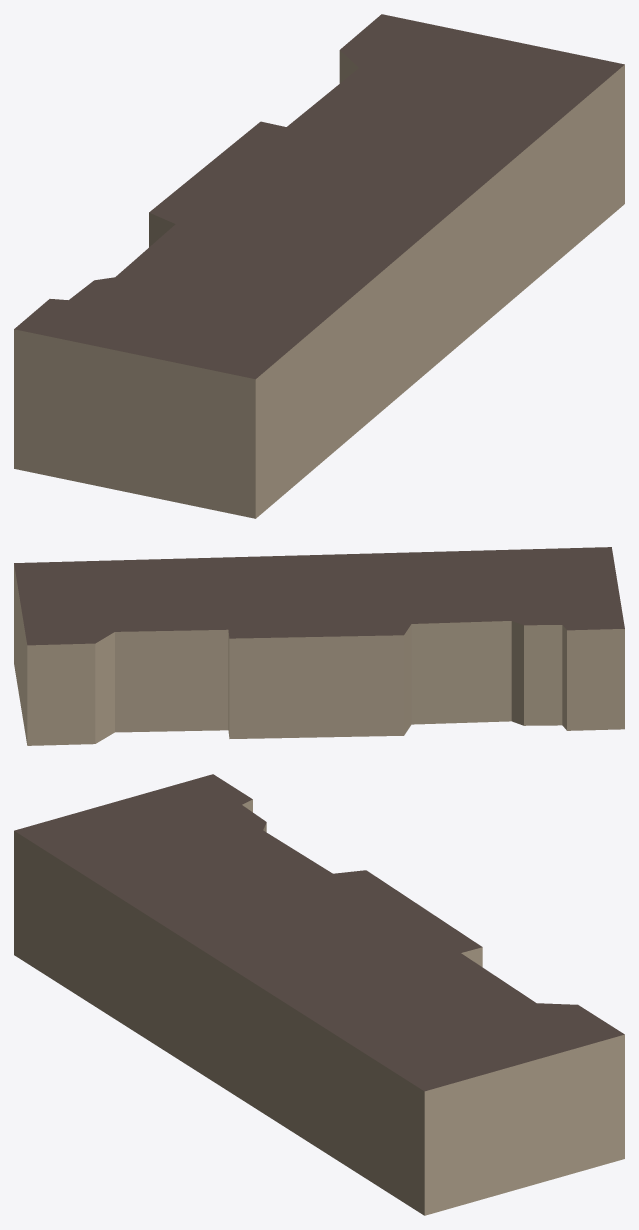
3 renders of one model, top to bottom at view 1: azimuth 30°, elevation 25°; view 2: azimuth 150°, elevation 25°; view 3: azimuth 270°, elevation 25°, orthographic. The views are drawn at different scales.
Visible parts, largest first — view 1: HP-w1512459552; view 2: HP-w1512459552; view 3: HP-w1512459552.
Boxes of the visible parts, x1,y1,x2,y2 form: HP-w1512459552: (14,14,624,518); HP-w1512459552: (14,547,624,745); HP-w1512459552: (14,774,624,1215).
Size of the model in its own units: 49.23 by 9 by 40.06.
